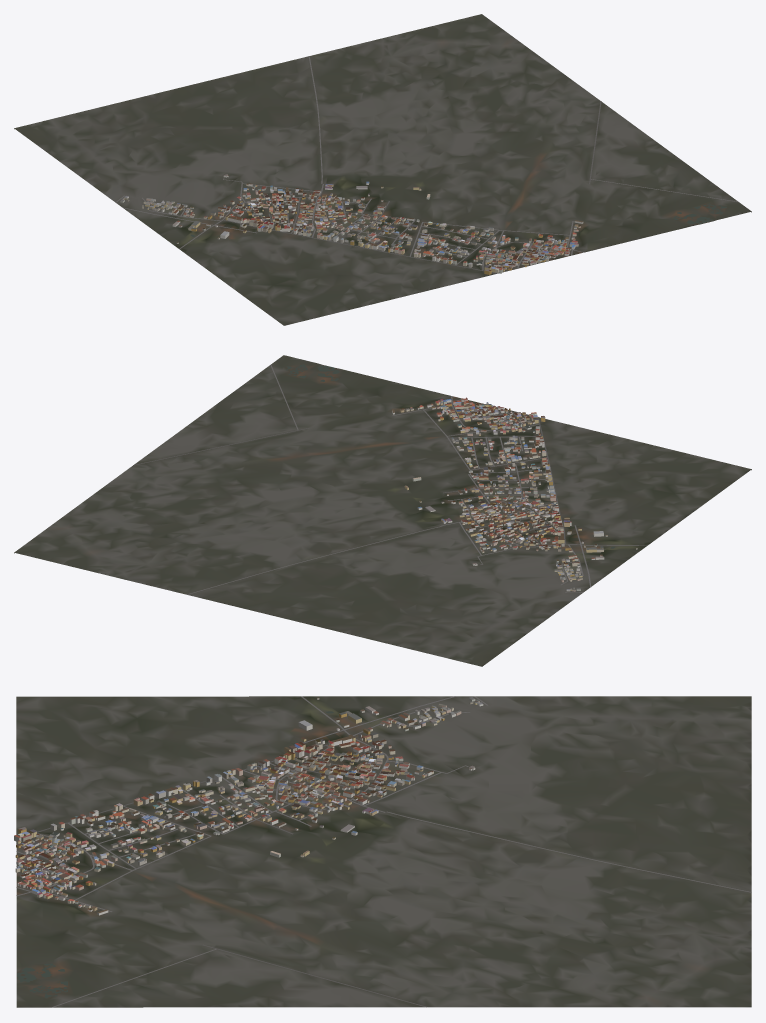
The picture shows the model from 3 angles, top to bottom: view 1: azimuth 30°, elevation 25°; view 2: azimuth 150°, elevation 25°; view 3: azimuth 270°, elevation 25°; orthographic projection. The views are drawn at different scales.
Visible parts, largest first — view 1: ground, buildings, roads; view 2: ground, buildings, roads; view 3: ground, buildings, roads, water.
Part boxes in pixels (x1,y1,x2,y2): ground: (14, 14, 751, 325); buildings: (120, 174, 583, 274); roads: (115, 56, 738, 273); ground: (14, 355, 751, 666); buildings: (392, 397, 637, 591); roads: (133, 364, 646, 594); ground: (16, 696, 751, 1007); buildings: (14, 697, 483, 915); roads: (16, 696, 751, 1007); water: (17, 711, 333, 998).
Bounding box in the file's own units: 1406 × 16.42 × 1407.
